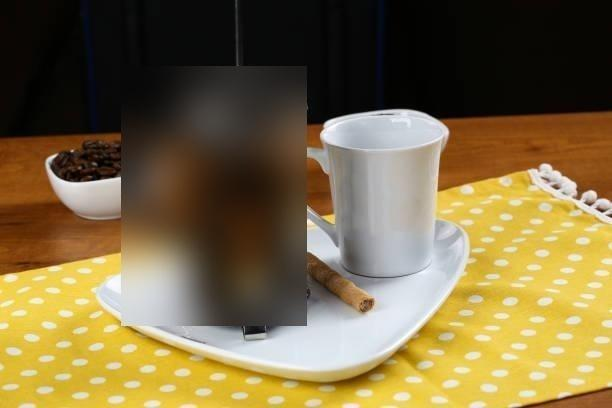cup-handle: (297, 108, 449, 278)
